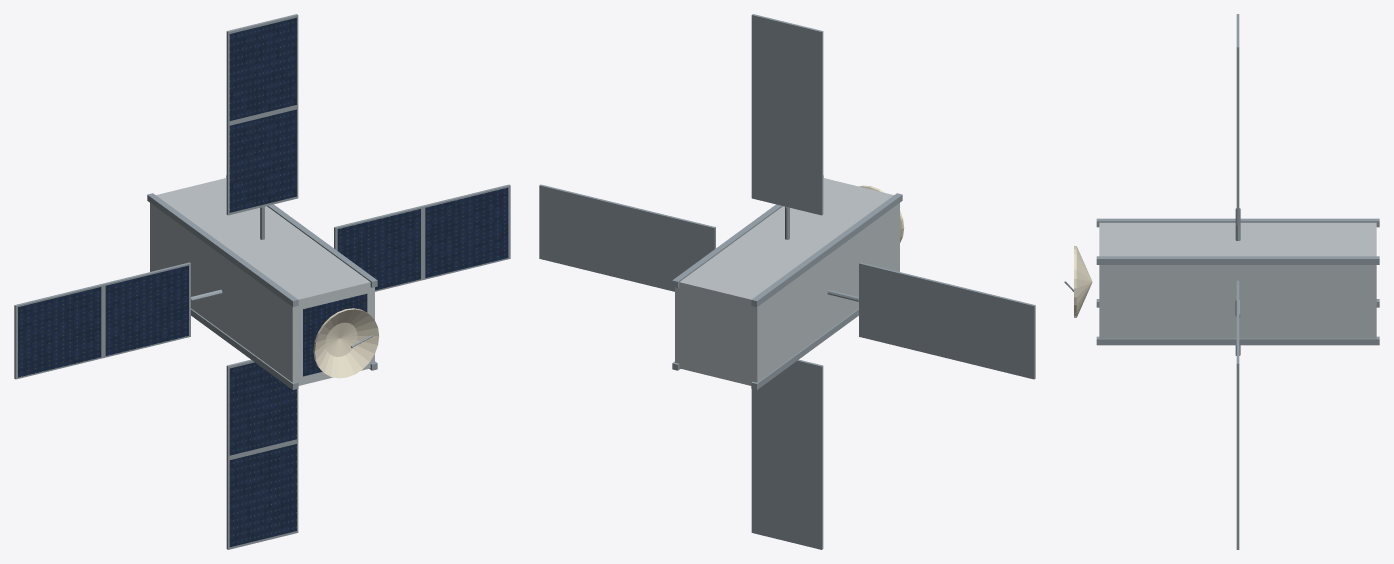
File: ref-cubesat-3u-38760.glb
3 views of the same model, side by side, from view 1: azimuth 30°, elevation 25°; view 2: azimuth 150°, elevation 25°; view 3: azimuth 270°, elevation 25° (orthographic). The views are drawn at different scales.
Parts seen in each view (by area): view 1: Photovoltaic laminates (×8), Spacecraft body, Array frame (×8), Dispenser rail (×3), Reflector dish, Body-mounted cells; view 2: Array frame (×8), Spacecraft body, Dispenser rail (×3); view 3: Spacecraft body, Dispenser rail (×3), Array frame (×2), Reflector dish.
Boxes of the visible parts, x1,y1,x2,y2 form: Photovoltaic laminates (×8): (18, 17, 508, 547); Spacecraft body: (150, 178, 374, 385); Array frame (×8): (14, 14, 510, 549); Dispenser rail (×3): (147, 175, 377, 389); Reflector dish: (313, 308, 379, 378); Body-mounted cells: (303, 293, 367, 376); Array frame (×8): (539, 14, 1035, 549); Spacecraft body: (675, 178, 899, 385); Dispenser rail (×3): (672, 175, 902, 389); Spacecraft body: (1099, 222, 1376, 338); Dispenser rail (×3): (1096, 218, 1379, 345); Array frame (×2): (1236, 14, 1239, 434); Reflector dish: (1074, 246, 1092, 317).
Bounding box in the file's own units: 0.6 × 0.6 × 0.3409.
4 materials, 1 textured.
